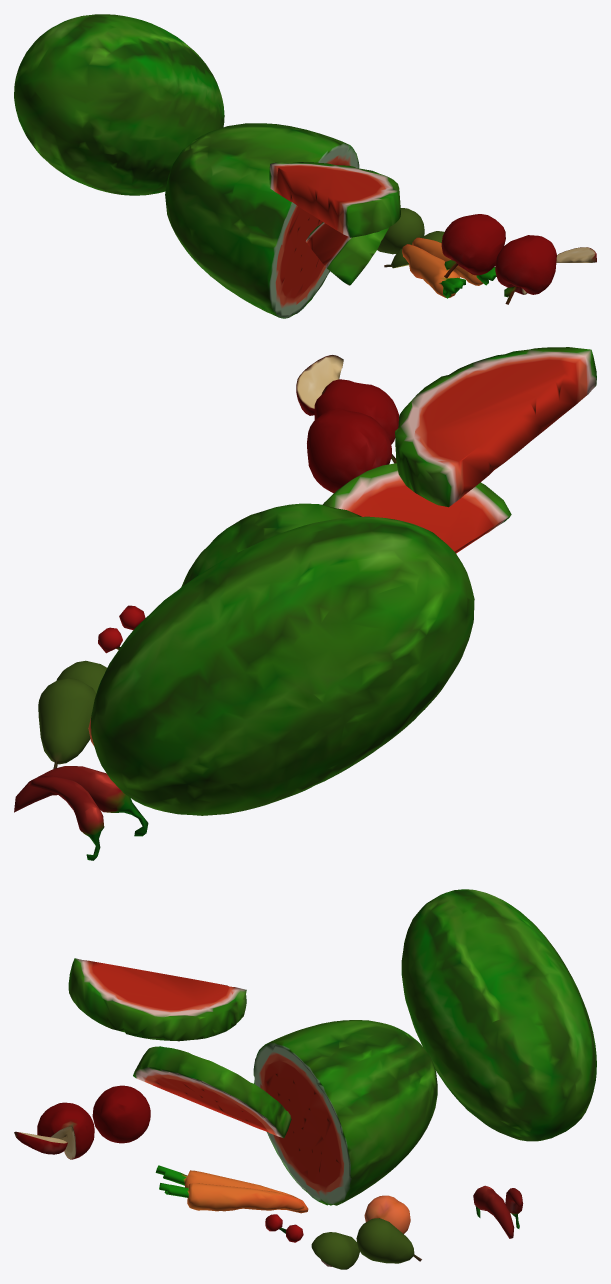
Rendered from low poly fruit vertex.fbx.
The picture shows the model from 3 angles, top to bottom: view 1: azimuth 30°, elevation 25°; view 2: azimuth 150°, elevation 25°; view 3: azimuth 270°, elevation 25°; orthographic projection. The views are drawn at different scales.
Visible parts, largest first — view 1: Layer_1 (×4), watermelon_half, pepper (×5), avacado; view 2: Layer_1 (×4), pepper (×5), watermelon_half, cherry, avacado; view 3: Layer_1 (×4), watermelon_half, pepper (×6), avacado, peach, cherry.
Boxes of the visible parts, left/top/right/bottom form: Layer_1 (×4): left=14, top=14, right=424, bottom=285; watermelon_half: left=165, top=123, right=359, bottom=318; pepper (×5): left=402, top=214, right=596, bottom=304; avacado: left=384, top=231, right=444, bottom=268; Layer_1 (×4): left=38, top=347, right=596, bottom=815; pepper (×5): left=14, top=355, right=398, bottom=860; watermelon_half: left=181, top=503, right=361, bottom=587; cherry: left=98, top=605, right=145, bottom=653; avacado: left=56, top=660, right=106, bottom=693; Layer_1 (×4): left=68, top=889, right=596, bottom=1263; watermelon_half: left=253, top=1020, right=437, bottom=1205; pepper (×6): left=14, top=1085, right=514, bottom=1238; avacado: left=311, top=1232, right=359, bottom=1269; peach: left=364, top=1195, right=410, bottom=1233; cherry: left=265, top=1214, right=303, bottom=1242.
Bounding box in the file's own units: 2.79 × 4.14 × 1.95.
